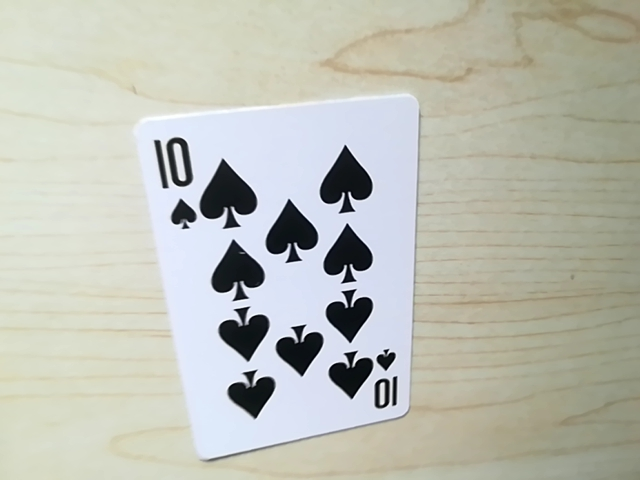ht 10: (153, 129, 205, 233), (361, 355, 399, 414)
